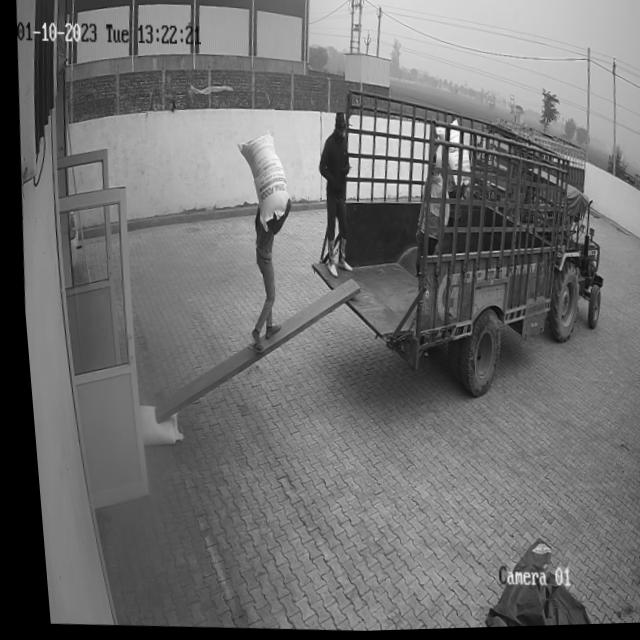sack: (230, 134, 291, 234), (130, 405, 177, 449)
